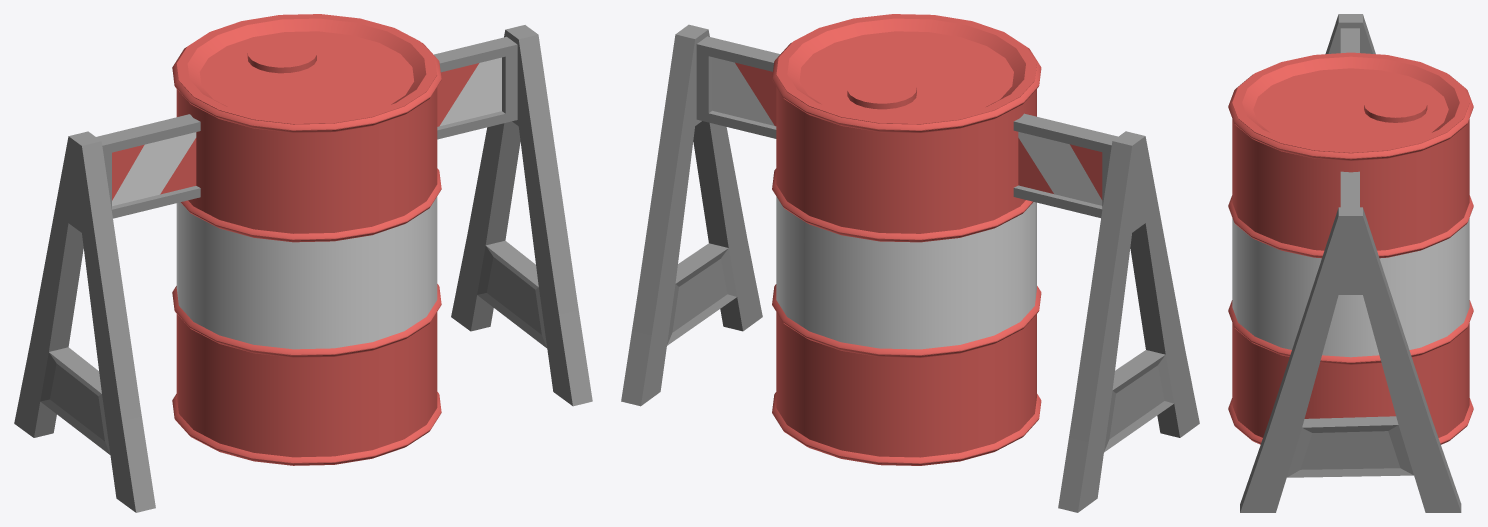
File: Obstacles 1.fbx
3 views of the same model, side by side, from view 1: azimuth 30°, elevation 25°; view 2: azimuth 150°, elevation 25°; view 3: azimuth 270°, elevation 25° (orthographic). The views are drawn at different scales.
Visible parts, largest first — view 1: Barrel, Barrier; view 2: Barrel, Barrier; view 3: Barrel, Barrier.
Part boxes in pixels (x1,y1,x2,y2): Barrel: (172,14,441,465); Barrier: (14,25,592,512); Barrel: (772,14,1041,465); Barrier: (621,24,1199,512); Barrel: (1228,52,1473,444); Barrier: (1240,14,1461,512).
Bounding box in the file's own units: 7340 × 5262 × 3769.
